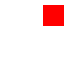square: (43, 5, 63, 25)
